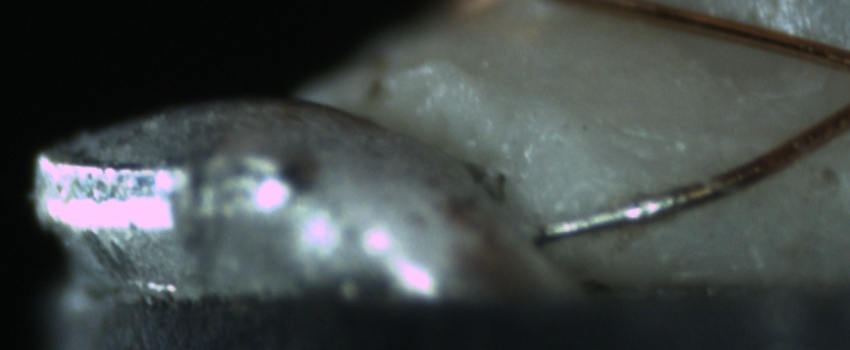DL: (588, 126, 799, 165)
TS: (528, 192, 677, 242)
